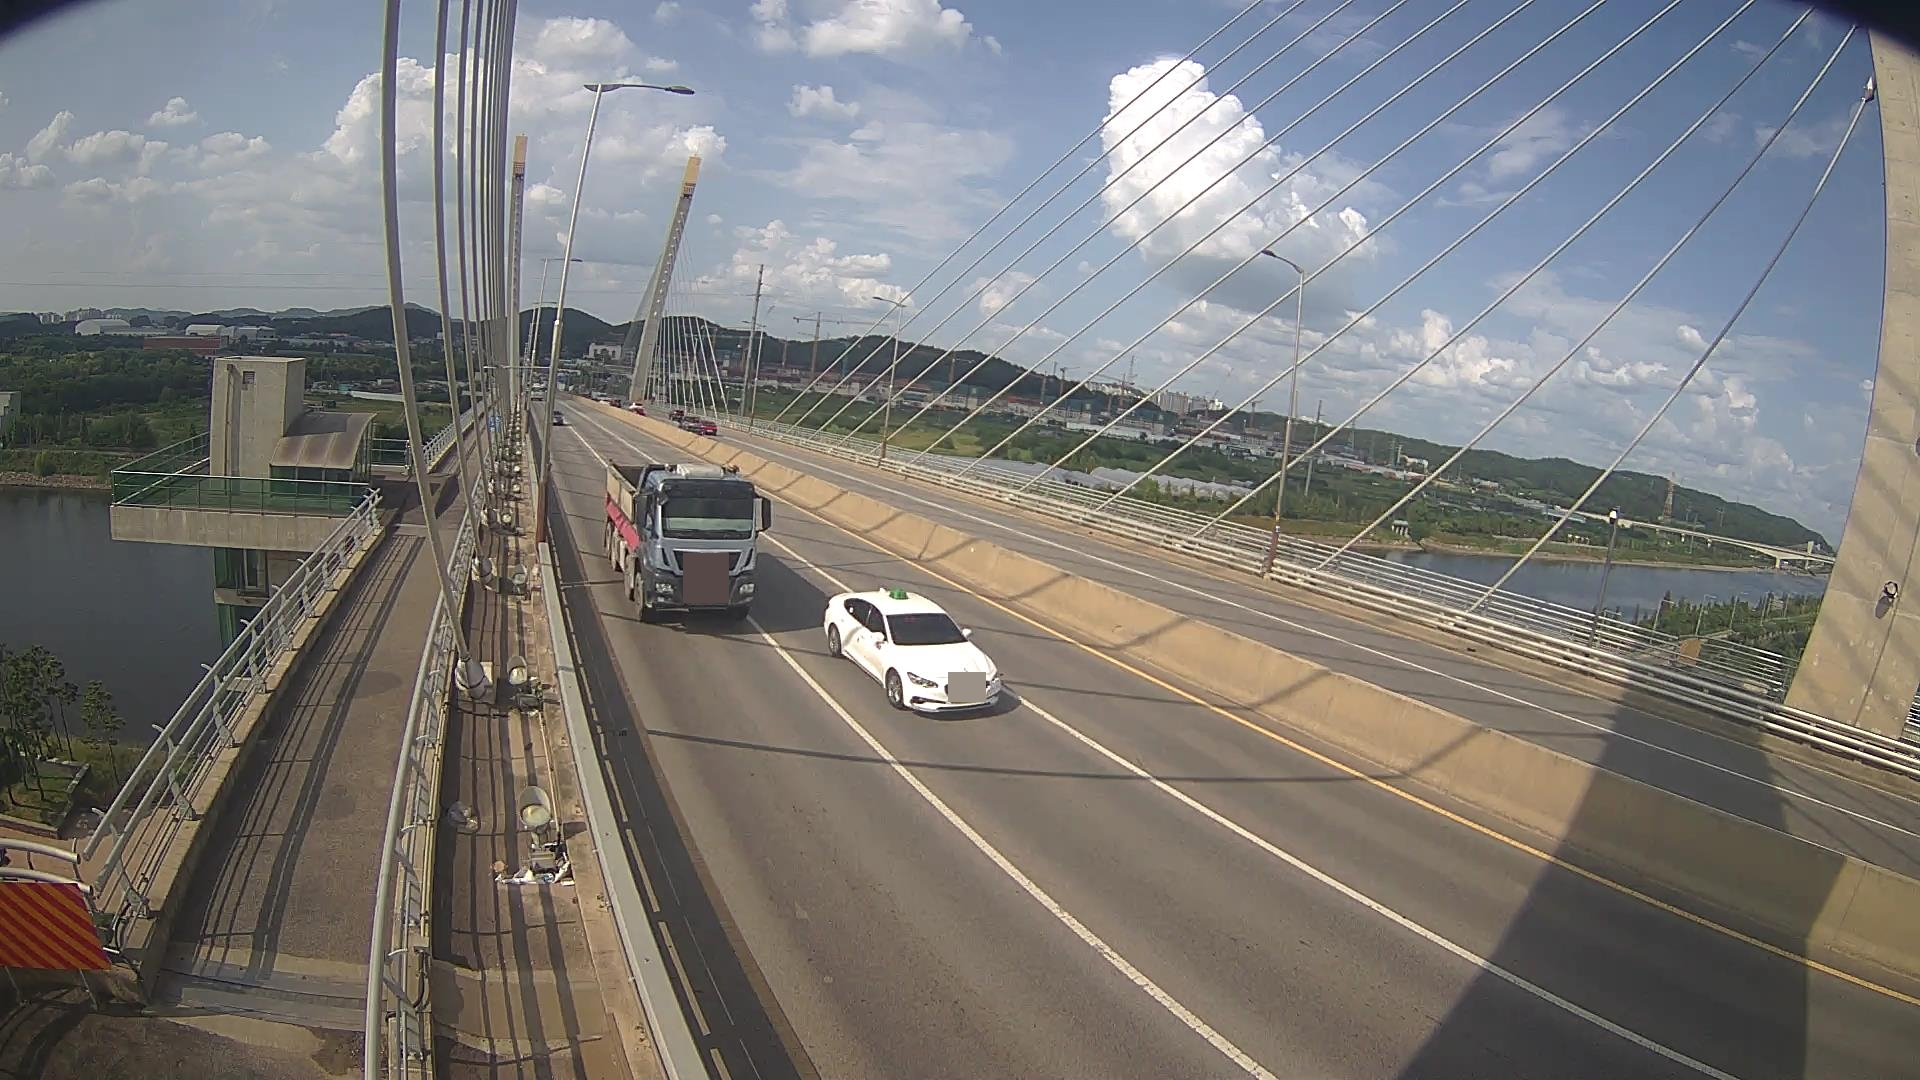정상차량: (604, 459, 771, 621)
